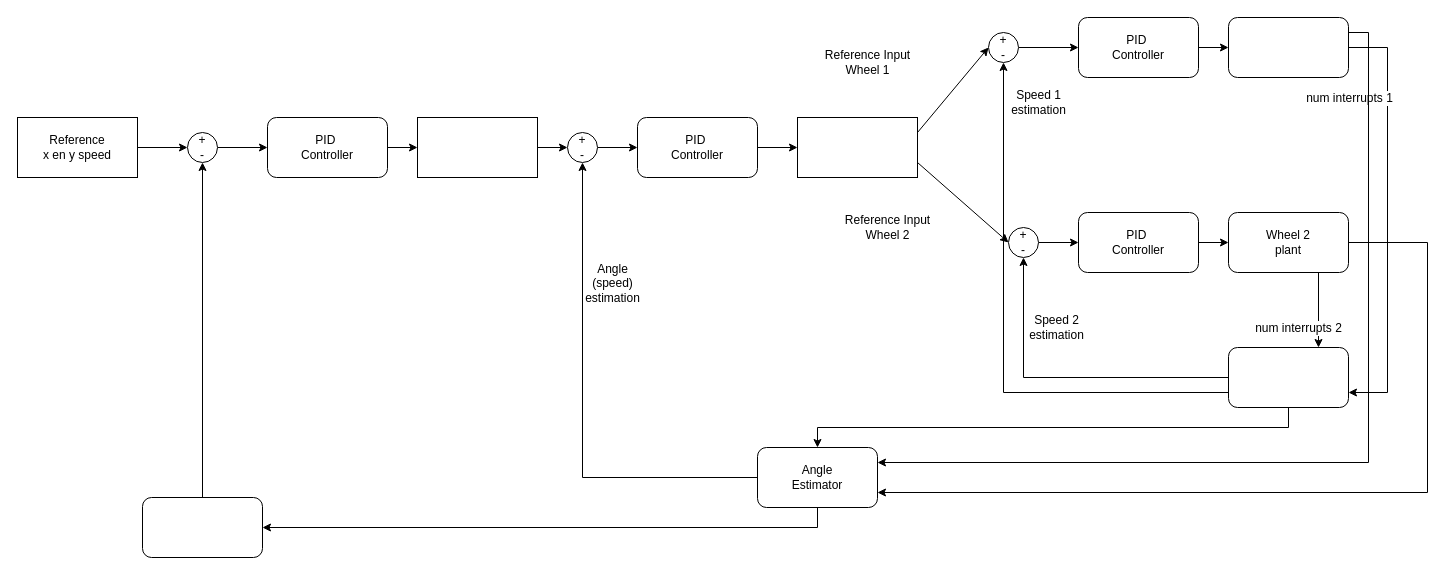
The diagram is 1453 pixels wide and 575 high, and some of its shapes have lost their labels. Here are the shapes that lost their labels. From the top down, the box of each, then its label:
(1228, 16, 1348, 78): Wheel 1 plant
(416, 116, 538, 178): Reference Angle (speed)
(796, 116, 918, 178): Reference wheel Speeds
(1228, 346, 1348, 408): Wheel Speed Difference Estimator
(142, 496, 262, 558): DeltaPosition Estimator
